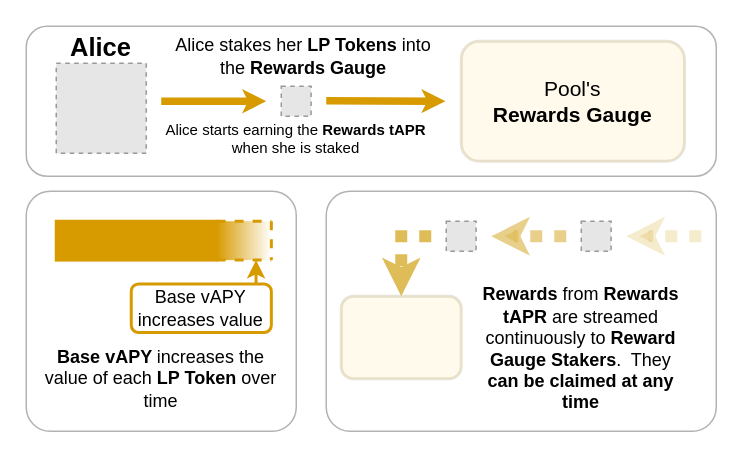
Some shapes in this 743 by 458 pixel diagram are drawn without their labels. Grey dashed boxes stand in for pictures. Here are the shapes that lost their labels. From the top down, the box of each, then its label:
(54, 219, 217, 261): LP Token Value
(339, 294, 462, 380): Rewards Gauge
